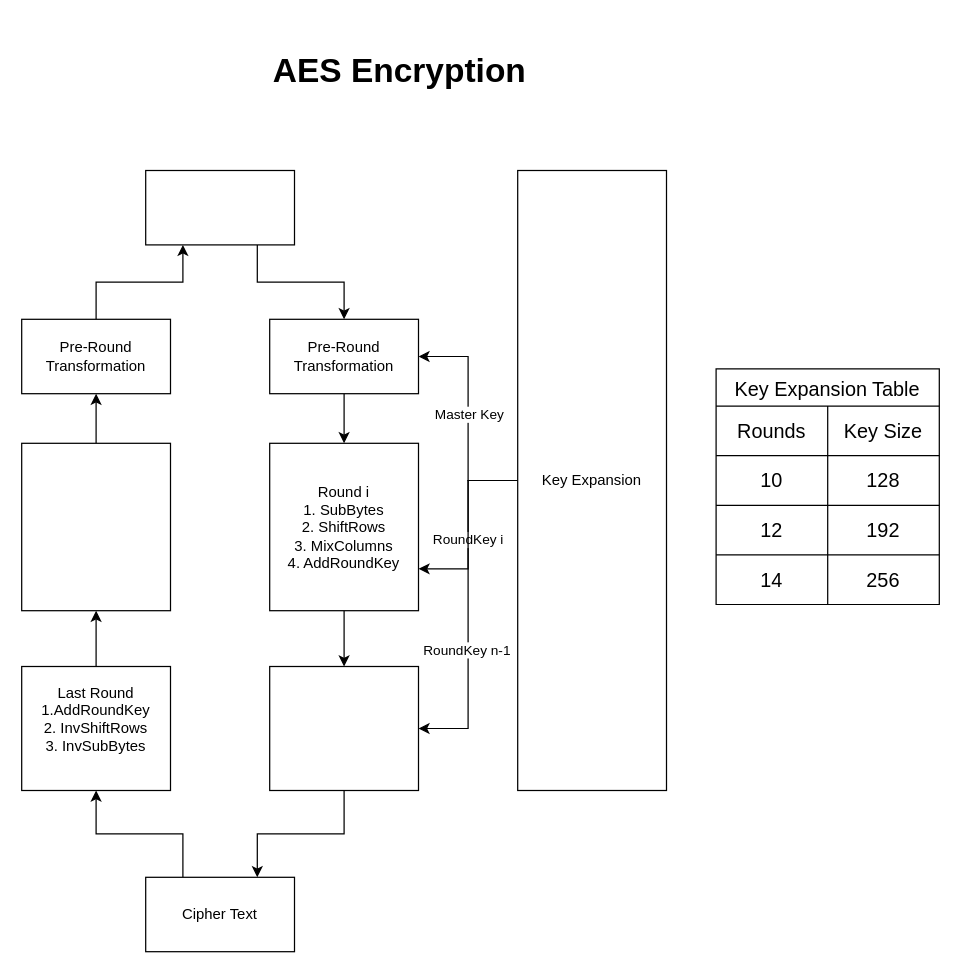
The diagram is 961 pixels wide and 973 high, and some of its shapes have lost their labels. Here are the shapes that lost their labels. From the top down, the centre of each, then its label:
At (x=219, y=207): "Plain Text".
At (x=95, y=526): "Round i 1.AddRoundKey 2. InvMixColumns 3. InvShiftRows 4. InvSubBytes".
At (x=343, y=727): "Last Round 1. SubBytes 2. ShiftRows 3.AddRoundKey".
